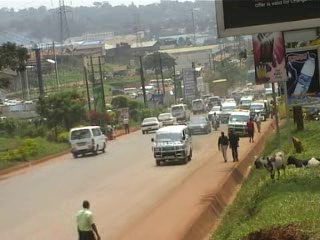Car: (185, 111, 213, 137), (140, 116, 163, 138), (156, 110, 177, 129), (206, 103, 220, 120)
Motorcycle: (210, 111, 222, 131)
